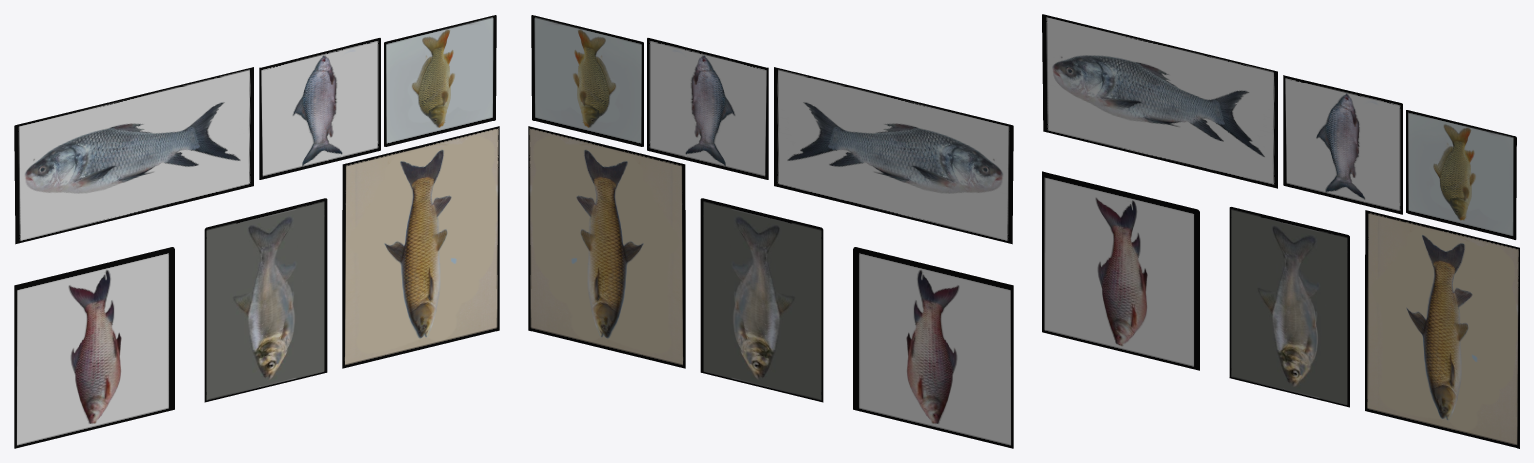
Rendered from Fishes 3.fbx.
The picture shows the model from 3 angles, left to right: view 1: azimuth 30°, elevation 25°; view 2: azimuth 150°, elevation 25°; view 3: azimuth 330°, elevation 25°; orthographic projection.
Visible parts, largest first — view 1: polySurface6, polySurface2, polySurface7, polySurface5, polySurface4, polySurface1; view 2: polySurface6, polySurface2, polySurface7, polySurface5, polySurface4, polySurface1; view 3: polySurface6, polySurface2, polySurface7, polySurface5, polySurface4, polySurface1.
Boxes of the visible parts, bbox=[...] form: polySurface6: bbox=[342, 126, 499, 368]; polySurface2: bbox=[14, 67, 253, 244]; polySurface7: bbox=[14, 247, 174, 448]; polySurface5: bbox=[204, 198, 327, 402]; polySurface4: bbox=[259, 38, 380, 179]; polySurface1: bbox=[384, 15, 496, 146]; polySurface6: bbox=[528, 126, 685, 368]; polySurface2: bbox=[774, 67, 1013, 244]; polySurface7: bbox=[853, 247, 1013, 448]; polySurface5: bbox=[700, 198, 823, 402]; polySurface4: bbox=[647, 38, 768, 179]; polySurface1: bbox=[531, 15, 643, 146]; polySurface6: bbox=[1365, 210, 1519, 448]; polySurface2: bbox=[1042, 14, 1277, 188]; polySurface7: bbox=[1042, 171, 1199, 370]; polySurface5: bbox=[1229, 207, 1349, 407]; polySurface4: bbox=[1283, 75, 1402, 214]; polySurface1: bbox=[1406, 110, 1516, 239].
Bounding box in the file's own units: 1730 × 1102 × 0.
1 material, 1 textured.
